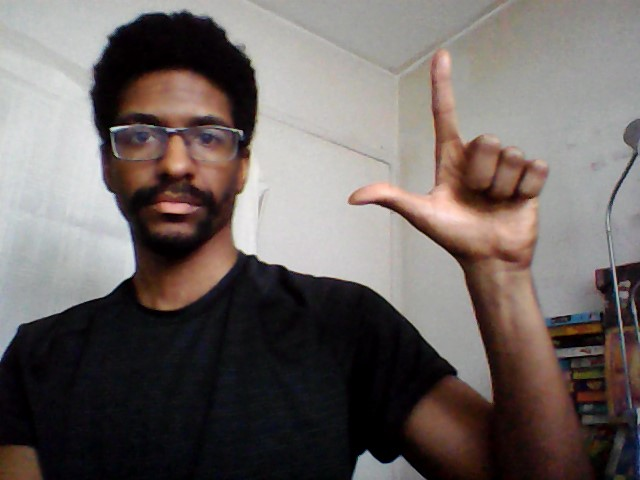l: (344, 41, 553, 270)
